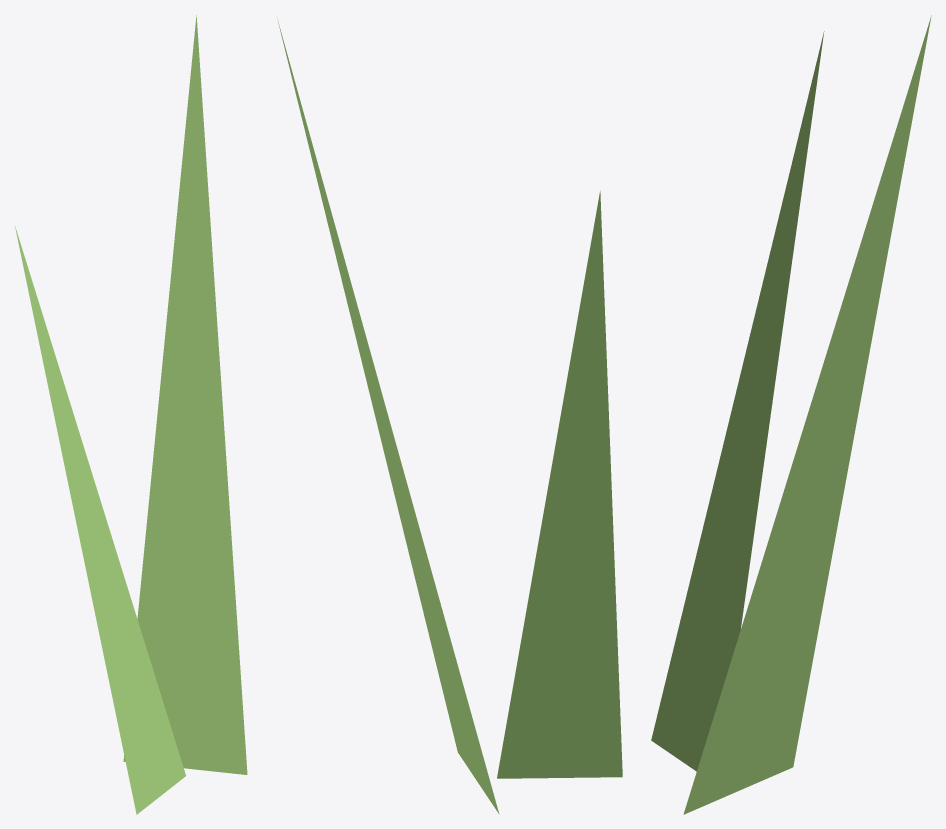
File: Grass_c_OneS_01.fbx
The picture shows the model from 3 angles, left to right: view 1: azimuth 30°, elevation 25°; view 2: azimuth 150°, elevation 25°; view 3: azimuth 270°, elevation 25°; orthographic projection. The views are drawn at different scales.
Visible parts, largest first — view 1: Grass_c_OneS_01; view 2: Grass_c_OneS_01; view 3: Grass_c_OneS_01.
Boxes of the visible parts, x1=… form: Grass_c_OneS_01: x1=14, y1=15, x2=247, y2=814; Grass_c_OneS_01: x1=277, y1=20, x2=622, y2=814; Grass_c_OneS_01: x1=651, y1=15, x2=931, y2=814.
Size of the model in its own units: 19.55 by 55.87 by 17.11.
